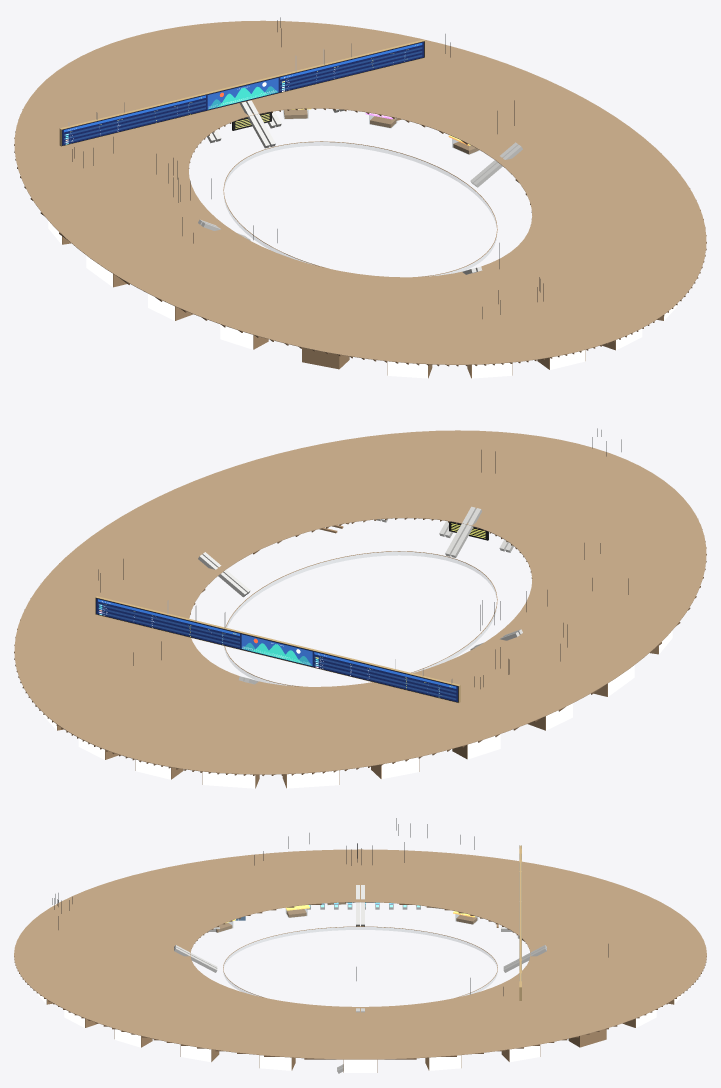
File: proposal_interior.glb
The picture shows the model from 3 angles, top to bottom: view 1: azimuth 30°, elevation 25°; view 2: azimuth 150°, elevation 25°; view 3: azimuth 270°, elevation 25°; orthographic projection. The views are drawn at different scales.
Visible parts, largest first — view 1: PR_CI_Ceiling, DB_bg, PR_CI_ShopBackWalls, DB_row, PR_CI_HallEscalators, PR_CI_ShopShells, DB_Trim, PR_CI_OculusGlass, DB_head, DB_Housing, PR_CI_PodGlass, PR_CI_OculusRail (+3 smaller); view 2: PR_CI_Ceiling, PR_CI_ShopBackWalls, DB_bg, DB_row, PR_CI_HallEscalators, DB_Trim, PR_CI_OculusGlass, PR_CI_ShopShells, DB_head, DB_Housing, PR_CI_OculusRail; view 3: PR_CI_Ceiling, PR_CI_ShopBackWalls, PR_CI_ShopShells, PR_CI_HallEscalators, PR_CI_OculusGlass, PR_CI_CeilingBattens, PR_CI_PodGlass, PR_CI_PodCounters, DB_Trim, PR_CI_OculusRail.
Part boxes in pixels (x1=…): PR_CI_Ceiling: x1=14, y1=20, x2=706, y2=364; DB_bg: x1=62, y1=42, x2=423, y2=145; PR_CI_ShopBackWalls: x1=33, y1=201, x2=678, y2=378; DB_row: x1=64, y1=47, x2=422, y2=143; PR_CI_HallEscalators: x1=198, y1=100, x2=522, y2=274; PR_CI_ShopShells: x1=62, y1=236, x2=663, y2=378; DB_Trim: x1=59, y1=39, x2=424, y2=146; PR_CI_OculusGlass: x1=225, y1=142, x2=495, y2=274; DB_head: x1=64, y1=43, x2=422, y2=132; DB_Housing: x1=61, y1=41, x2=424, y2=145; PR_CI_PodGlass: x1=283, y1=109, x2=479, y2=154; PR_CI_OculusRail: x1=223, y1=141, x2=497, y2=276; PR_CI_Ceiling: x1=14, y1=430, x2=706, y2=774; PR_CI_ShopBackWalls: x1=42, y1=611, x2=687, y2=788; DB_bg: x1=96, y1=598, x2=457, y2=701; DB_row: x1=98, y1=603, x2=456, y2=699; PR_CI_HallEscalators: x1=198, y1=506, x2=522, y2=684; DB_Trim: x1=95, y1=596, x2=460, y2=702; PR_CI_OculusGlass: x1=225, y1=552, x2=495, y2=684; PR_CI_ShopShells: x1=57, y1=646, x2=658, y2=788; DB_head: x1=98, y1=599, x2=456, y2=688; DB_Housing: x1=95, y1=598, x2=458, y2=702; PR_CI_OculusRail: x1=224, y1=551, x2=497, y2=686; PR_CI_Ceiling: x1=14, y1=849, x2=706, y2=1059; PR_CI_ShopBackWalls: x1=35, y1=991, x2=685, y2=1072; PR_CI_ShopShells: x1=46, y1=999, x2=674, y2=1072; PR_CI_HallEscalators: x1=174, y1=885, x2=546, y2=1012; PR_CI_OculusGlass: x1=224, y1=927, x2=496, y2=994; PR_CI_CeilingBattens: x1=14, y1=903, x2=706, y2=1059; PR_CI_PodGlass: x1=215, y1=903, x2=522, y2=940; PR_CI_PodCounters: x1=216, y1=902, x2=523, y2=940; DB_Trim: x1=519, y1=845, x2=521, y2=1000; PR_CI_OculusRail: x1=223, y1=926, x2=497, y2=998.
Bounding box in the file's own units: 152 × 28.87 × 212.
